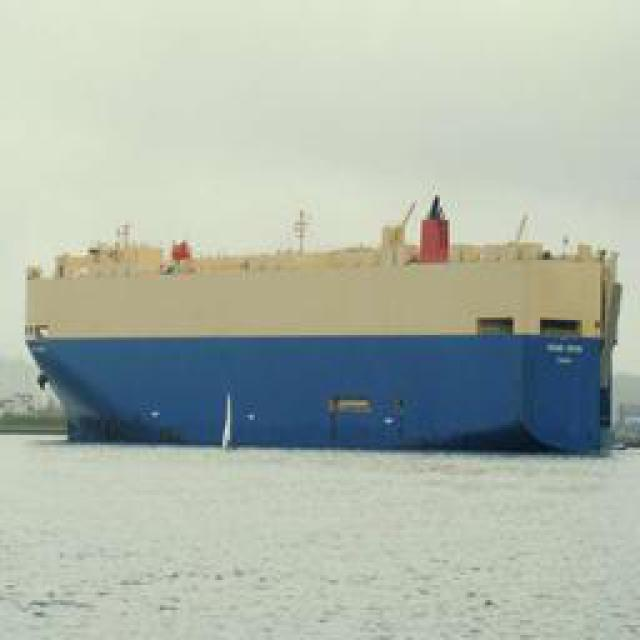Ship: (25, 200, 625, 459)
